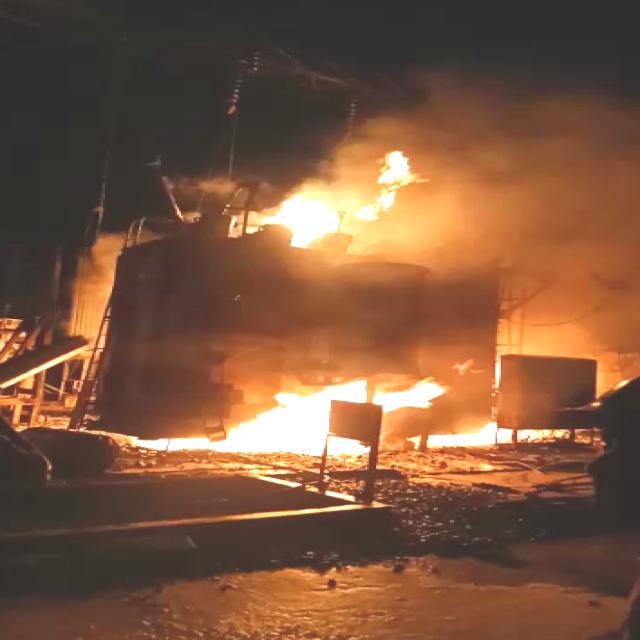firerotation: (122, 368, 600, 462), (248, 146, 434, 250)
